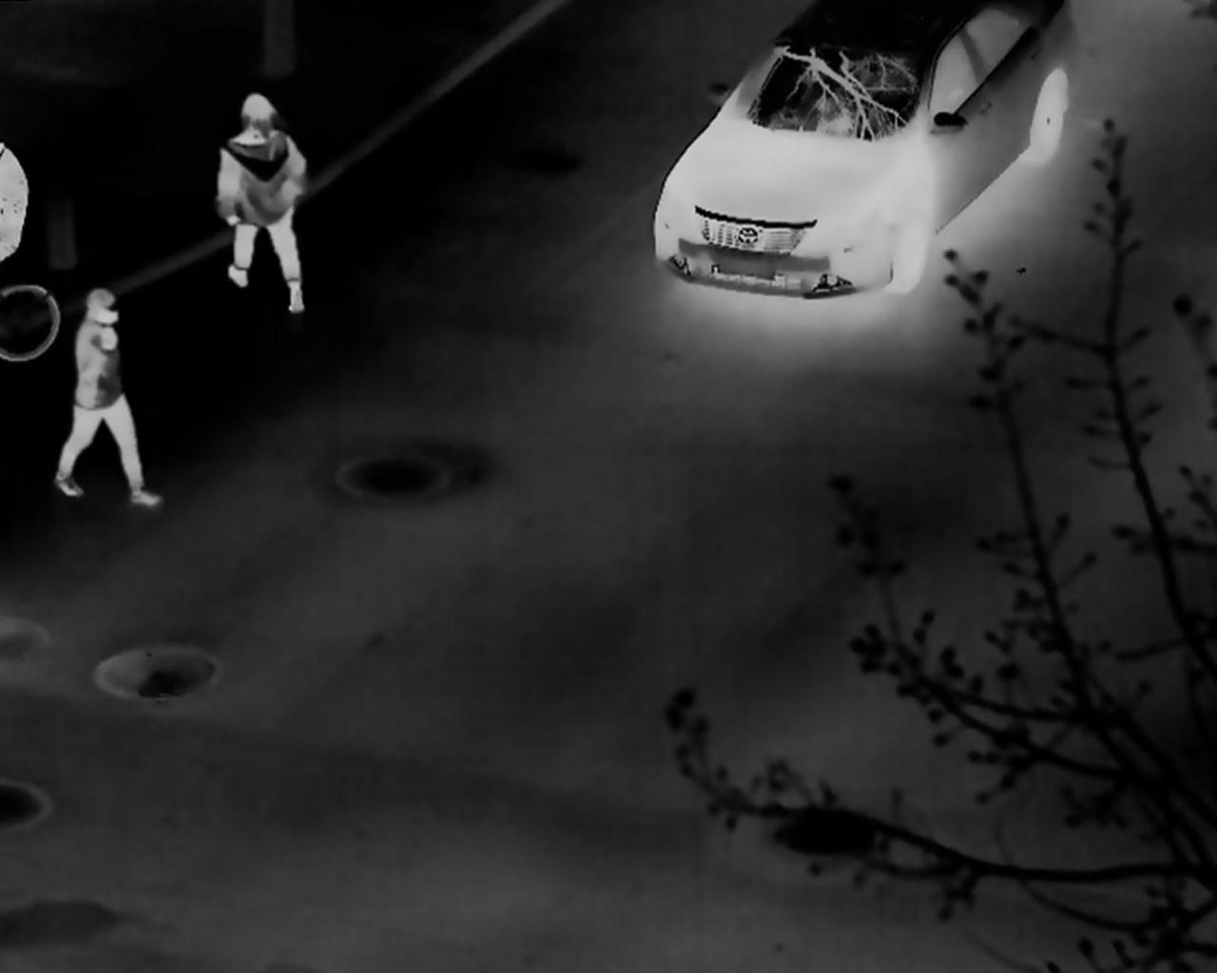person: (52, 285, 164, 506), (216, 93, 307, 313)
